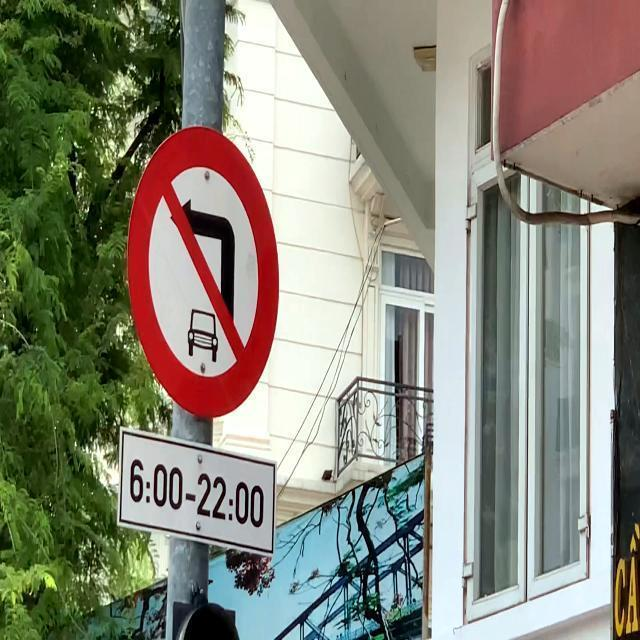123a-cam-re-trai: (126, 128, 282, 416)
